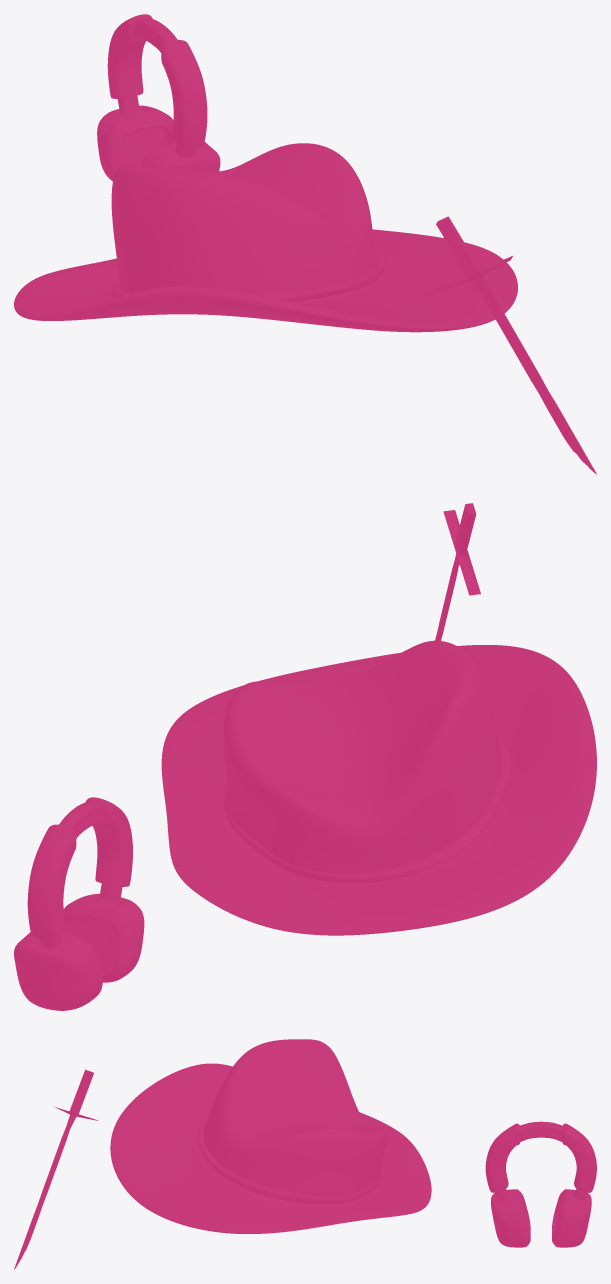
Rendered from heroSectionScene.glb.
3 renders of one model, top to bottom at view 1: azimuth 30°, elevation 25°; view 2: azimuth 150°, elevation 25°; view 3: azimuth 270°, elevation 25°, orthographic. The views are drawn at different scales.
Parts seen in each view (by area): view 1: Hat, Cube_2, sword; view 2: Hat, Cube_2, sword; view 3: Hat, Cube_2, sword.
Boxes of the visible parts, bbox=[...] form: Hat: bbox=[14, 143, 517, 332]; Cube_2: bbox=[97, 14, 220, 181]; sword: bbox=[427, 216, 596, 474]; Hat: bbox=[161, 640, 596, 935]; Cube_2: bbox=[14, 797, 144, 1010]; sword: bbox=[435, 503, 480, 640]; Hat: bbox=[110, 1039, 431, 1233]; Cube_2: bbox=[485, 1121, 596, 1247]; sword: bbox=[14, 1069, 98, 1269].
Size of the model in its own units: 13.11 by 7.34 by 23.25.
